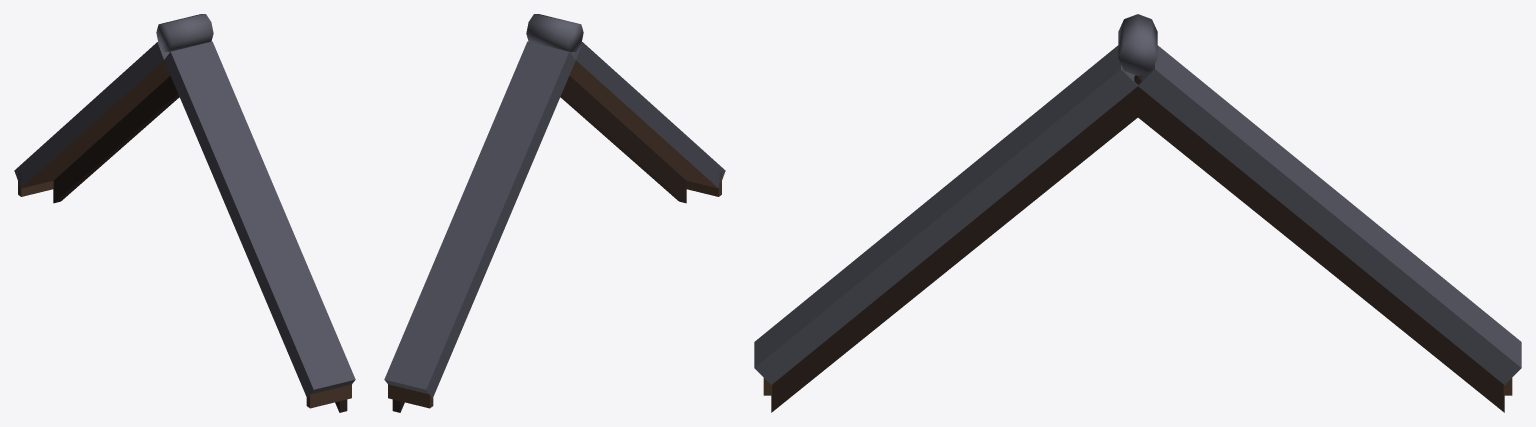
File: kit_timber_slate_w2_end.glb
3 views of the same model, side by side, from view 1: azimuth 30°, elevation 25°; view 2: azimuth 150°, elevation 25°; view 3: azimuth 270°, elevation 25° (orthographic). The views are drawn at different scales.
Visible parts, largest first — view 1: kit_timber_slate_w2_end; view 2: kit_timber_slate_w2_end; view 3: kit_timber_slate_w2_end.
Part boxes in pixels (bbox=[...]): kit_timber_slate_w2_end: bbox=[14, 14, 355, 412]; kit_timber_slate_w2_end: bbox=[384, 14, 725, 412]; kit_timber_slate_w2_end: bbox=[754, 14, 1521, 412].
Size of the model in its own units: 0.22 by 1.46 by 2.72.
